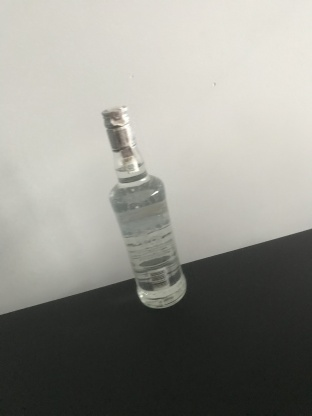nakretka: (100, 103, 138, 154)
